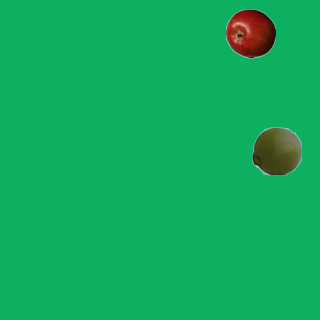Apple Braeburn: (225, 8, 275, 58)
Grape White 4: (251, 125, 301, 175)
